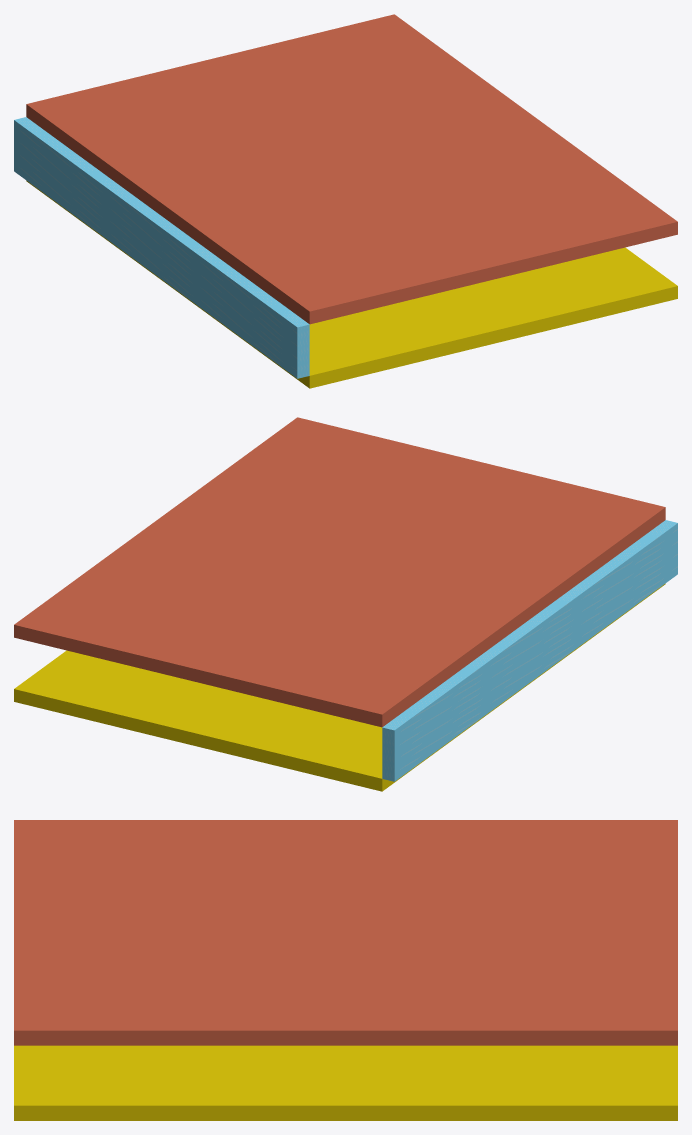
File: testBook1.gltf
The picture shows the model from 3 angles, top to bottom: view 1: azimuth 30°, elevation 25°; view 2: azimuth 150°, elevation 25°; view 3: azimuth 270°, elevation 25°; orthographic projection. The views are drawn at different scales.
Parts seen in each view (by area): view 1: CoverL, CoverR, Spine; view 2: CoverL, CoverR, Spine; view 3: CoverL, CoverR.
Part boxes in pixels (bbox=[...]): CoverL: bbox=[26, 14, 677, 324]; CoverR: bbox=[26, 180, 677, 388]; Spine: bbox=[14, 117, 309, 378]; CoverL: bbox=[14, 417, 665, 727]; CoverR: bbox=[14, 583, 665, 791]; Spine: bbox=[382, 520, 677, 781]; CoverL: bbox=[14, 820, 677, 1045]; CoverR: bbox=[14, 1045, 677, 1120].
Bounding box in the file's own units: 1.55 × 0.3 × 2.
3 materials, 3 textured.
